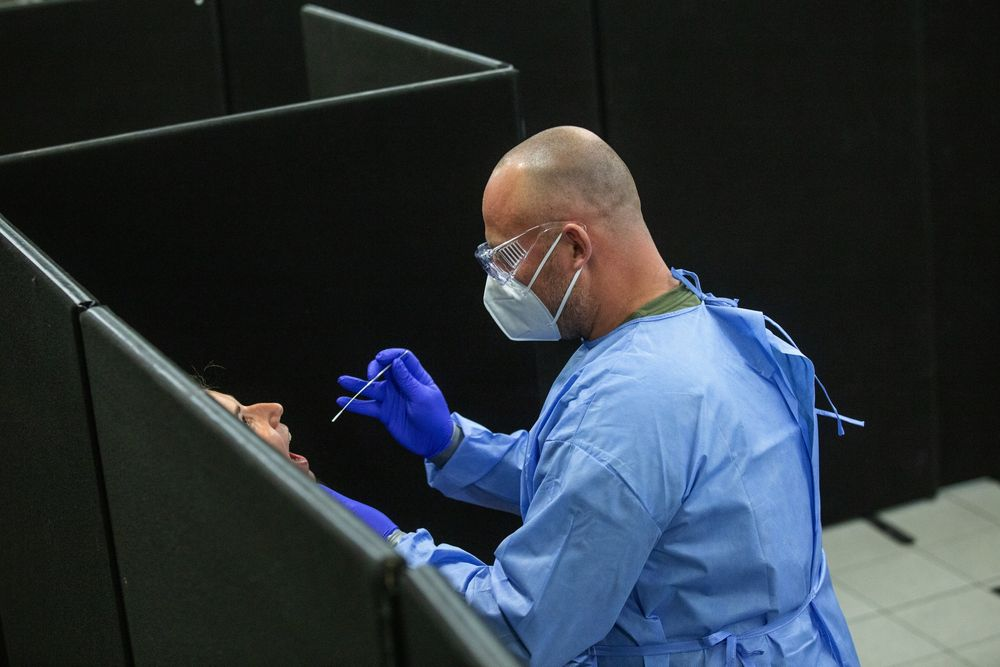Gloves: (336, 340, 461, 468)
Goggles: (469, 216, 545, 284)
with_mask: (475, 208, 564, 359)
